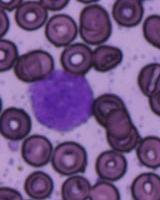B: (29, 68, 94, 132)
